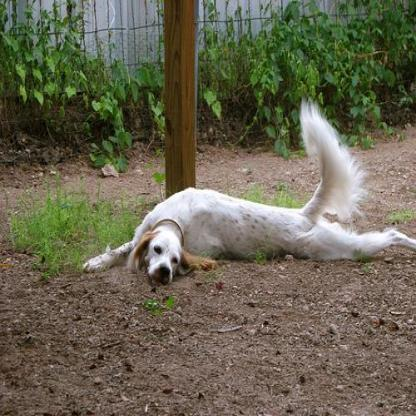English_setter: (80, 97, 414, 286)
